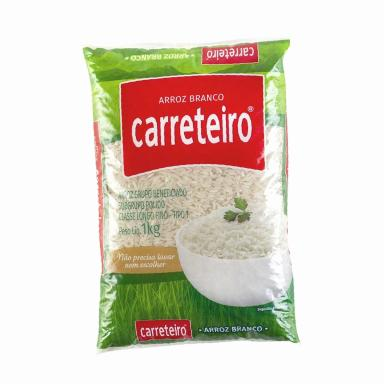rice package: (84, 41, 298, 349)
